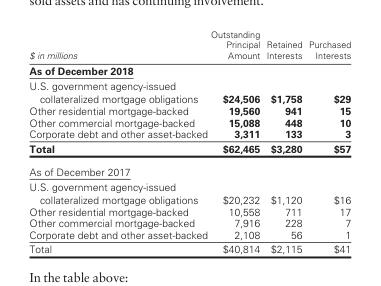table: (28, 28, 350, 254)
table column: (28, 28, 208, 254), (208, 28, 262, 254), (304, 28, 350, 254), (262, 28, 304, 254)
table column header: (28, 28, 350, 62)
table projected row header: (28, 159, 350, 178), (28, 62, 350, 78)
table row: (28, 28, 350, 62), (28, 178, 350, 205), (28, 78, 350, 104), (28, 140, 350, 159), (28, 159, 350, 178), (28, 62, 350, 78), (28, 127, 350, 140), (28, 228, 350, 241), (28, 241, 350, 254), (28, 104, 350, 116), (28, 216, 350, 228), (28, 116, 350, 127), (28, 205, 350, 216)
